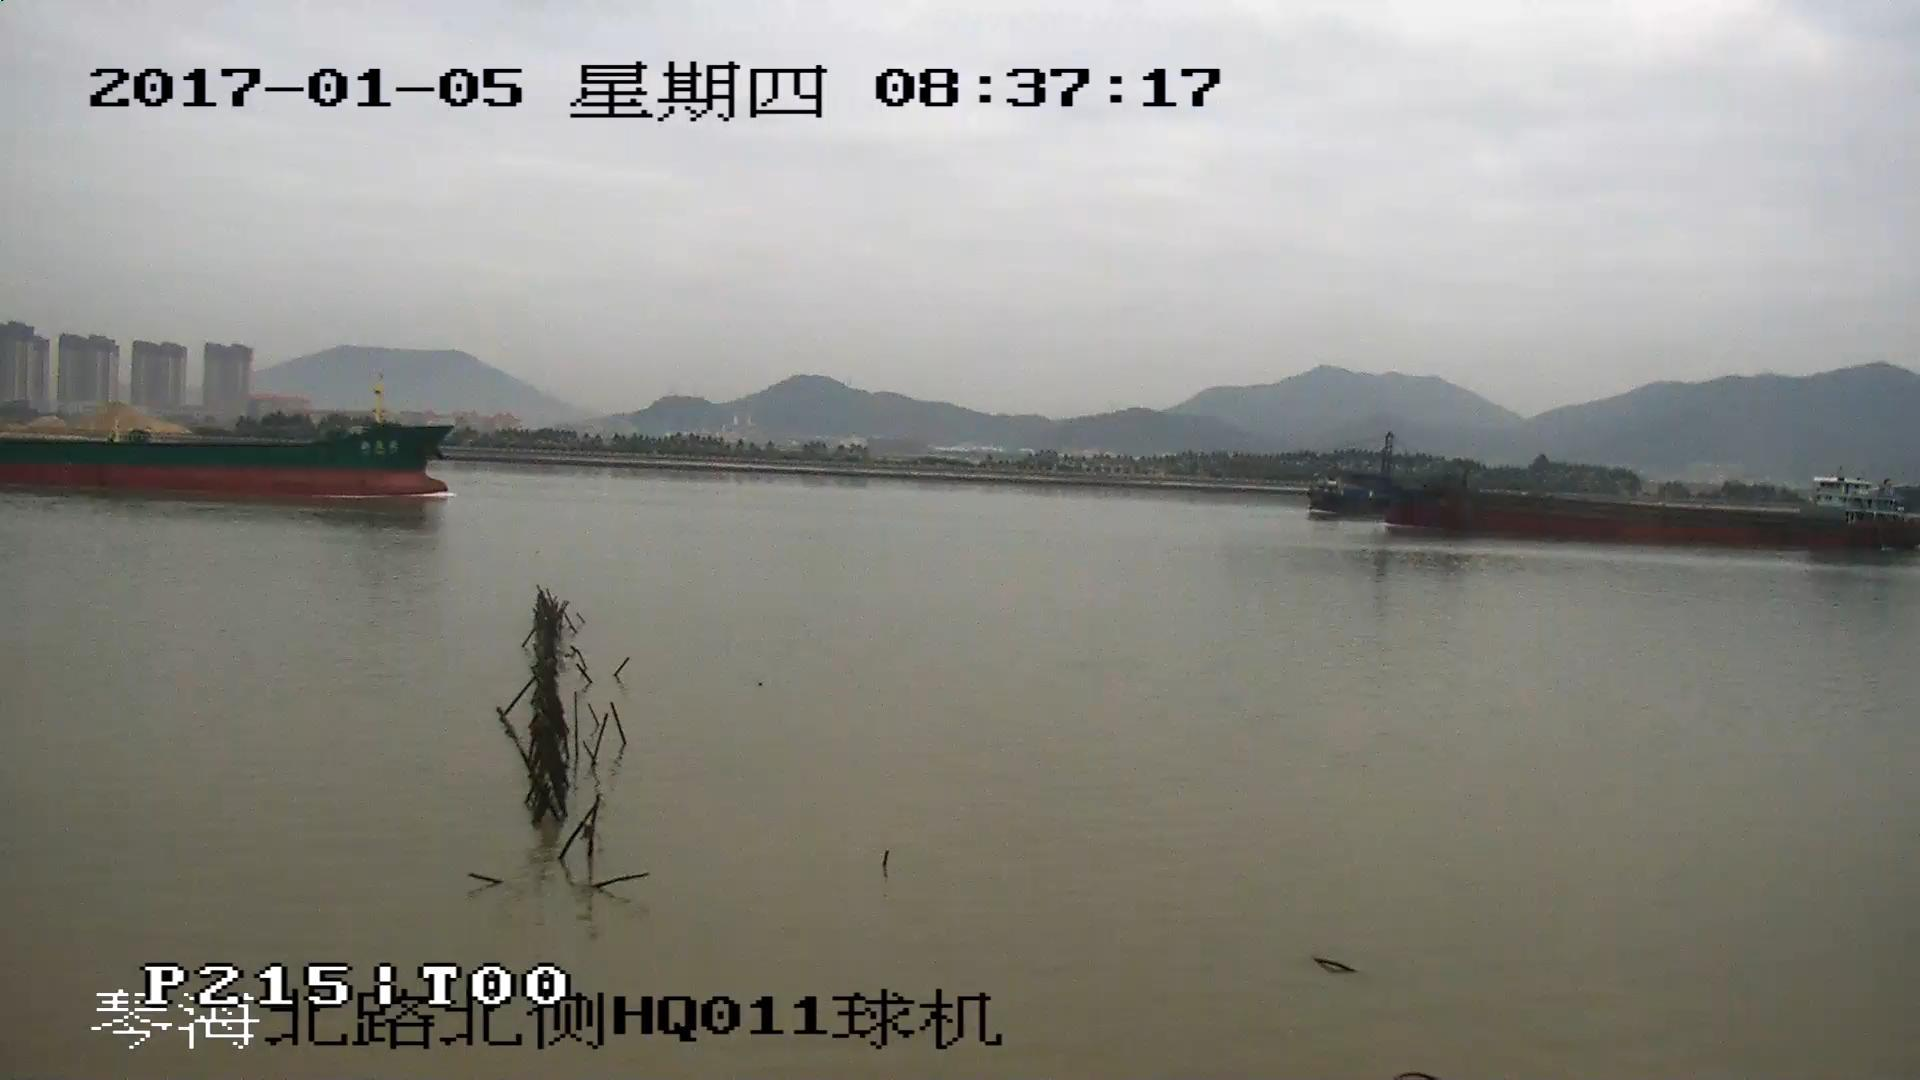Ship: (1311, 440, 1920, 545), (3, 371, 448, 497)
